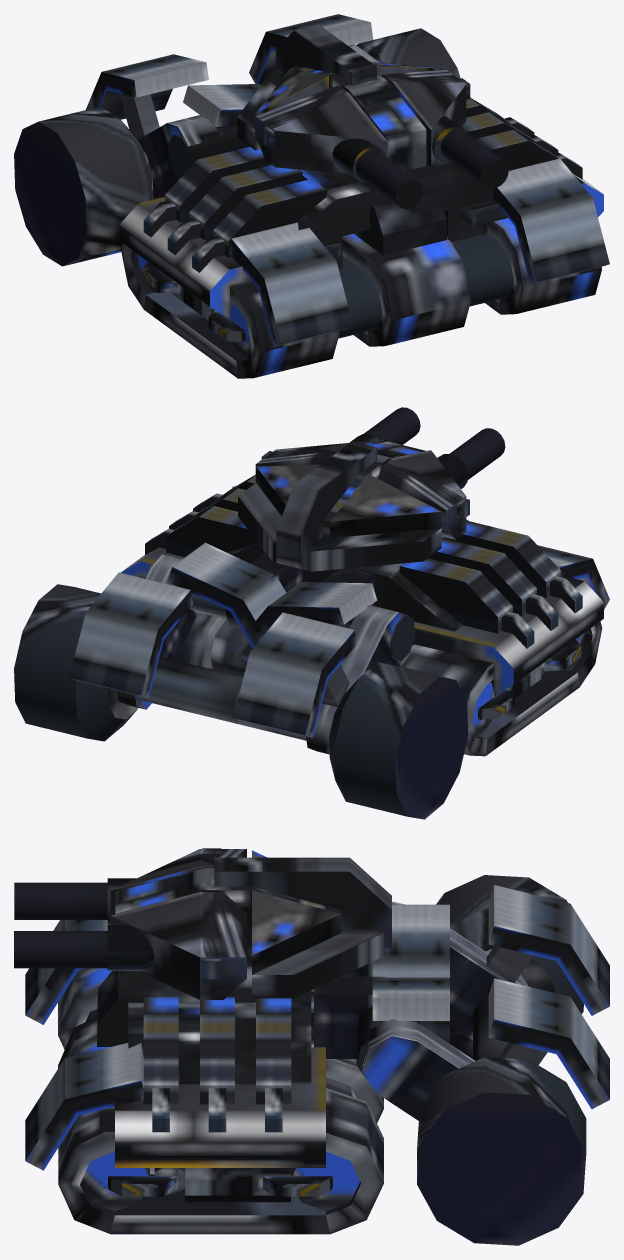
Rendered from armbull_blue.glb.
3 views of the same model, one above another, from view 1: azimuth 30°, elevation 25°; view 2: azimuth 150°, elevation 25°; view 3: azimuth 270°, elevation 25° (orthographic). The views are drawn at different scales.
Visible parts, largest first — view 1: base, lwheel, turret, laxle, lsleeve, rsleeve, raxle, rwheel, lbarrel, rbarrel; view 2: base, raxle, turret, laxle, lwheel, rwheel, lsleeve, rsleeve, rbarrel, lbarrel; view 3: base, rwheel, turret, raxle, laxle, rsleeve, lwheel, lbarrel, rbarrel, lsleeve.
Boxes of the visible parts, x1=… form: base: x1=119, y1=98, x2=609, y2=378; lwheel: x1=14, y1=106, x2=153, y2=266; turret: x1=237, y1=24, x2=441, y2=171; laxle: x1=86, y1=54, x2=260, y2=199; lsleeve: x1=255, y1=85, x2=387, y2=182; rsleeve: x1=381, y1=69, x2=470, y2=166; raxle: x1=249, y1=14, x2=379, y2=85; rwheel: x1=356, y1=28, x2=460, y2=78; lbarrel: x1=440, y1=129, x2=508, y2=188; rbarrel: x1=355, y1=150, x2=423, y2=209; base: x1=121, y1=475, x2=609, y2=756; raxle: x1=69, y1=542, x2=286, y2=723; turret: x1=238, y1=441, x2=441, y2=571; laxle: x1=221, y1=582, x2=408, y2=754; lwheel: x1=329, y1=662, x2=468, y2=819; rwheel: x1=14, y1=584, x2=138, y2=741; lsleeve: x1=377, y1=450, x2=469, y2=539; rsleeve: x1=255, y1=434, x2=387, y2=482; rbarrel: x1=449, y1=428, x2=505, y2=479; lbarrel: x1=364, y1=407, x2=420, y2=444; base: x1=25, y1=920, x2=419, y2=1234; rwheel: x1=417, y1=1057, x2=586, y2=1245; turret: x1=115, y1=850, x2=391, y2=998; raxle: x1=362, y1=977, x2=609, y2=1120; laxle: x1=372, y1=885, x2=609, y2=1060; rsleeve: x1=107, y1=892, x2=246, y2=999; lwheel: x1=436, y1=875, x2=583, y2=1058; lbarrel: x1=14, y1=931, x2=147, y2=968; rbarrel: x1=14, y1=882, x2=107, y2=919; lsleeve: x1=107, y1=848, x2=246, y2=924.
Size of the model in its own units: 41.03 by 23.35 by 46.21.
1 material, 1 textured.
